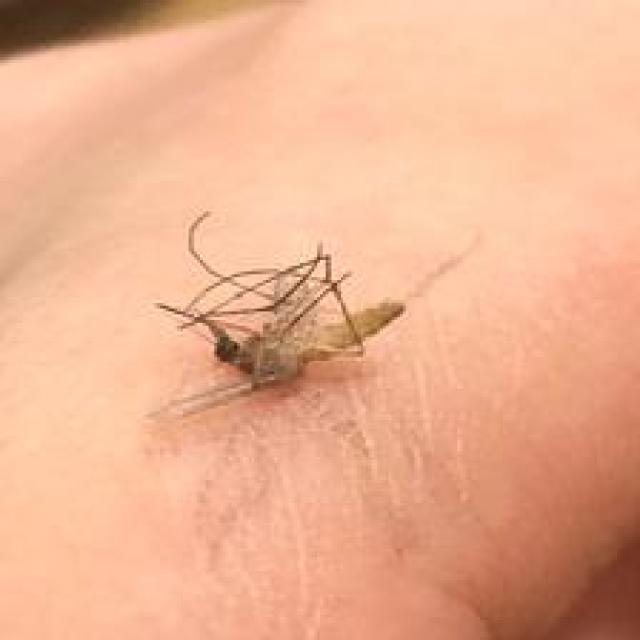Culex: (146, 208, 406, 423)
